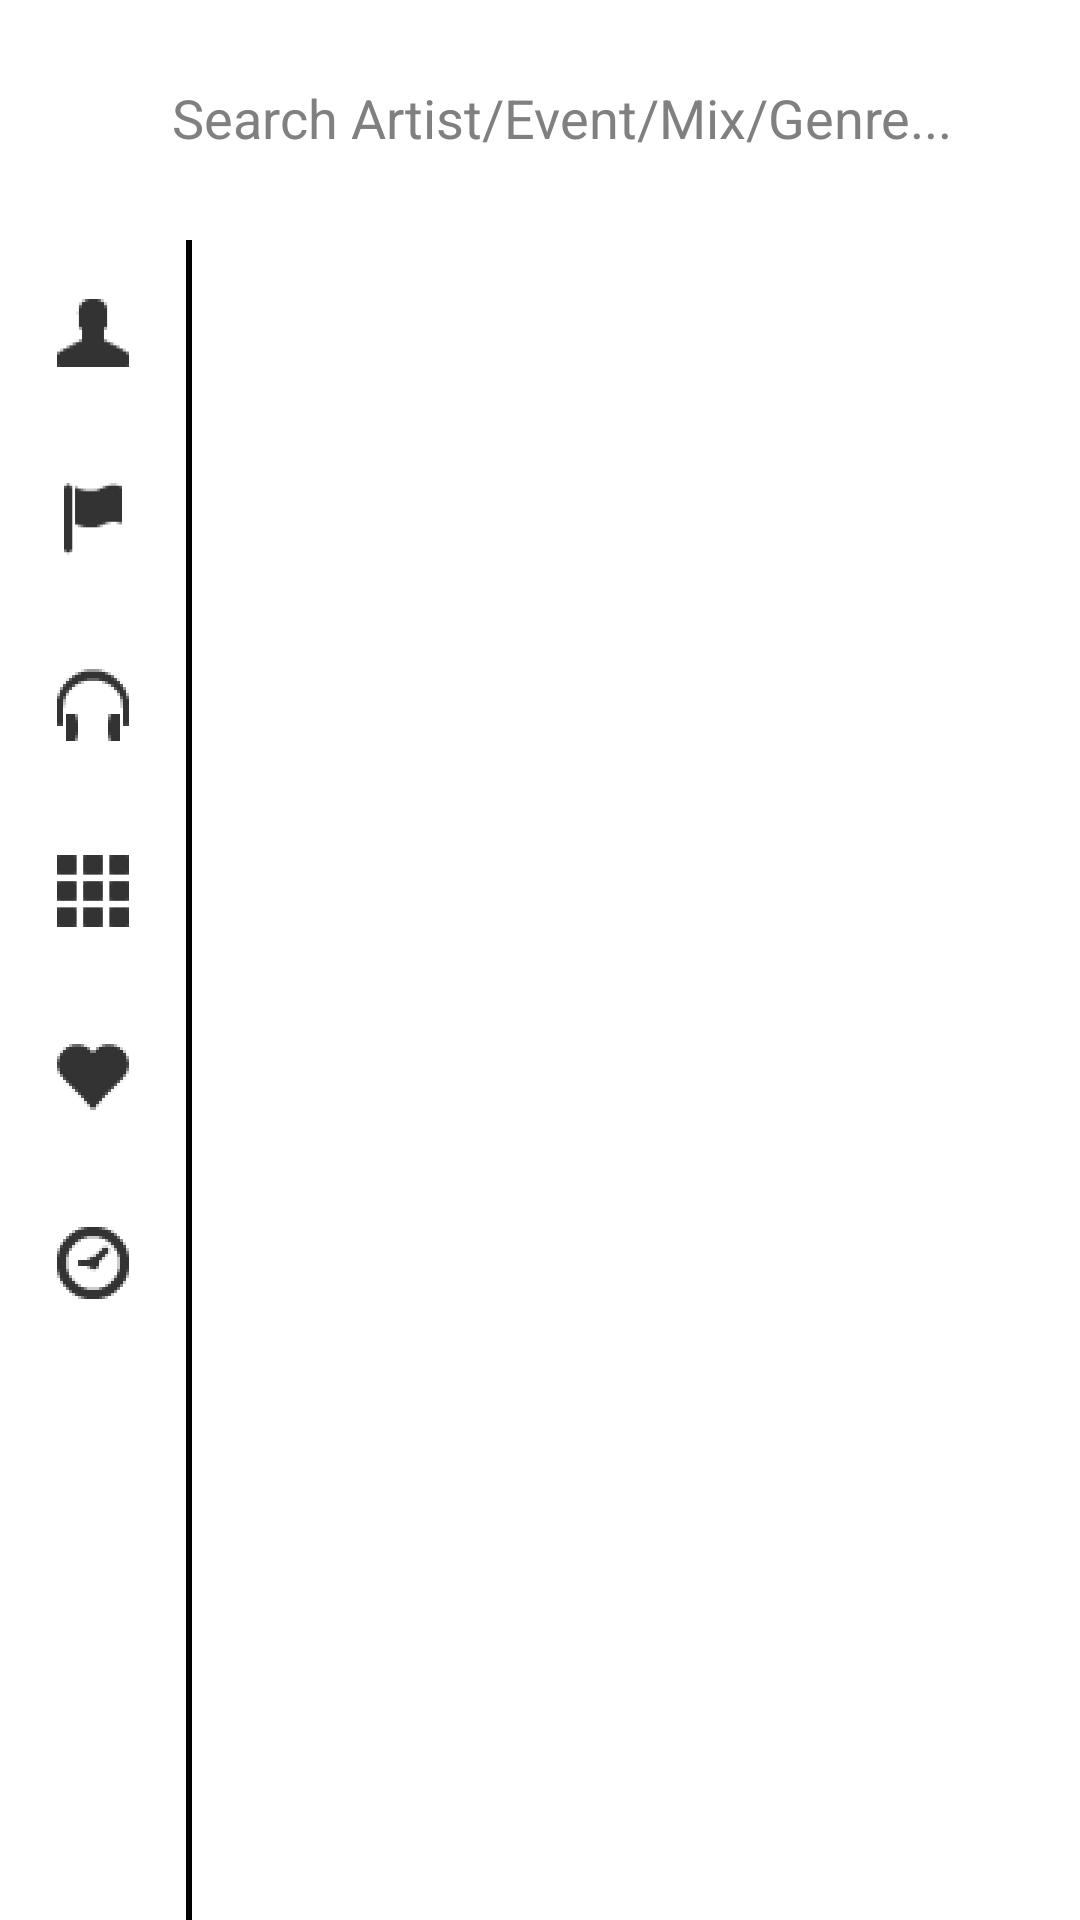

Icon click points for this 1080 × 1920 phone screenshot, format point (x, y):
artist: point (93, 333)
festival: point (93, 519)
genre: point (93, 891)
mix: point (93, 705)
popular: point (93, 1077)
recent: point (93, 1263)
